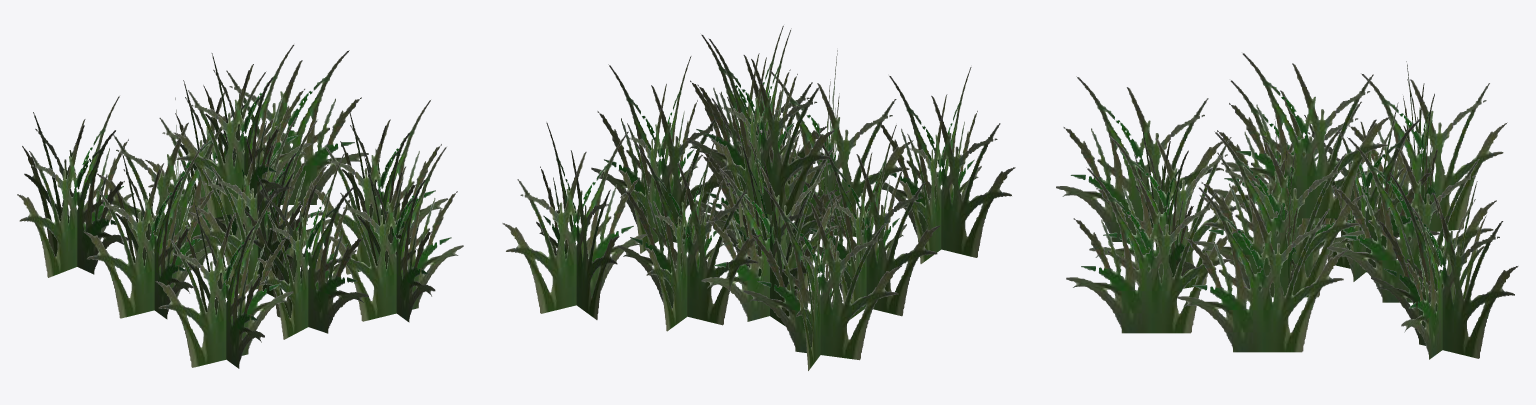
Rendered from kusa.fbx.
3 views of the same model, side by side, from view 1: azimuth 30°, elevation 25°; view 2: azimuth 150°, elevation 25°; view 3: azimuth 270°, elevation 25° (orthographic). The views are drawn at different scales.
Visible parts, largest first — view 1: polymsh2, grid14, grid2, grid4, grid23, grid18, grid8, grid9, grid10, polymsh, grid22, grid21 (+8 smaller); view 2: grid8, polymsh2, grid19, grid30, grid14, grid4, grid20, grid10, grid22, grid18, grid31, grid15 (+10 smaller); view 3: grid11, grid3, grid5, polymsh, grid19, grid31, grid15, grid9, grid23, grid18, grid20, grid6 (+5 smaller).
Boxes of the visible parts, x1=… form: polymsh2: x1=83, y1=144, x2=218, y2=319; grid14: x1=155, y1=193, x2=293, y2=367; grid2: x1=329, y1=147, x2=463, y2=321; grid4: x1=173, y1=44, x2=311, y2=217; grid23: x1=244, y1=175, x2=368, y2=333; grid18: x1=209, y1=50, x2=368, y2=204; grid8: x1=17, y1=96, x2=134, y2=277; grid9: x1=22, y1=112, x2=129, y2=274; grid10: x1=310, y1=100, x2=447, y2=274; polymsh: x1=196, y1=119, x2=330, y2=293; grid22: x1=257, y1=154, x2=356, y2=339; grid21: x1=96, y1=115, x2=237, y2=267; grid8: x1=743, y1=185, x2=901, y2=360; polymsh2: x1=799, y1=125, x2=940, y2=319; grid19: x1=502, y1=131, x2=646, y2=313; grid30: x1=617, y1=143, x2=761, y2=325; grid14: x1=875, y1=76, x2=1015, y2=257; grid4: x1=691, y1=38, x2=834, y2=220; grid20: x1=701, y1=160, x2=841, y2=321; grid10: x1=591, y1=64, x2=729, y2=243; grid22: x1=764, y1=70, x2=913, y2=236; grid18: x1=536, y1=122, x2=619, y2=319; grid31: x1=644, y1=134, x2=724, y2=331; grid15: x1=899, y1=67, x2=981, y2=263; grid11: x1=1177, y1=187, x2=1347, y2=352; grid3: x1=1066, y1=167, x2=1236, y2=333; grid5: x1=1221, y1=53, x2=1391, y2=218; polymsh: x1=1194, y1=131, x2=1363, y2=297; grid19: x1=1371, y1=171, x2=1518, y2=358; grid31: x1=1327, y1=137, x2=1496, y2=302; grid15: x1=1056, y1=76, x2=1225, y2=241; grid9: x1=1348, y1=73, x2=1507, y2=231; grid23: x1=1089, y1=136, x2=1247, y2=288; grid18: x1=1401, y1=181, x2=1486, y2=359; grid20: x1=1304, y1=115, x2=1439, y2=272; grid6: x1=1199, y1=124, x2=1363, y2=288.
Size of the model in its own units: 1.01 by 0.5857 by 1.04.
